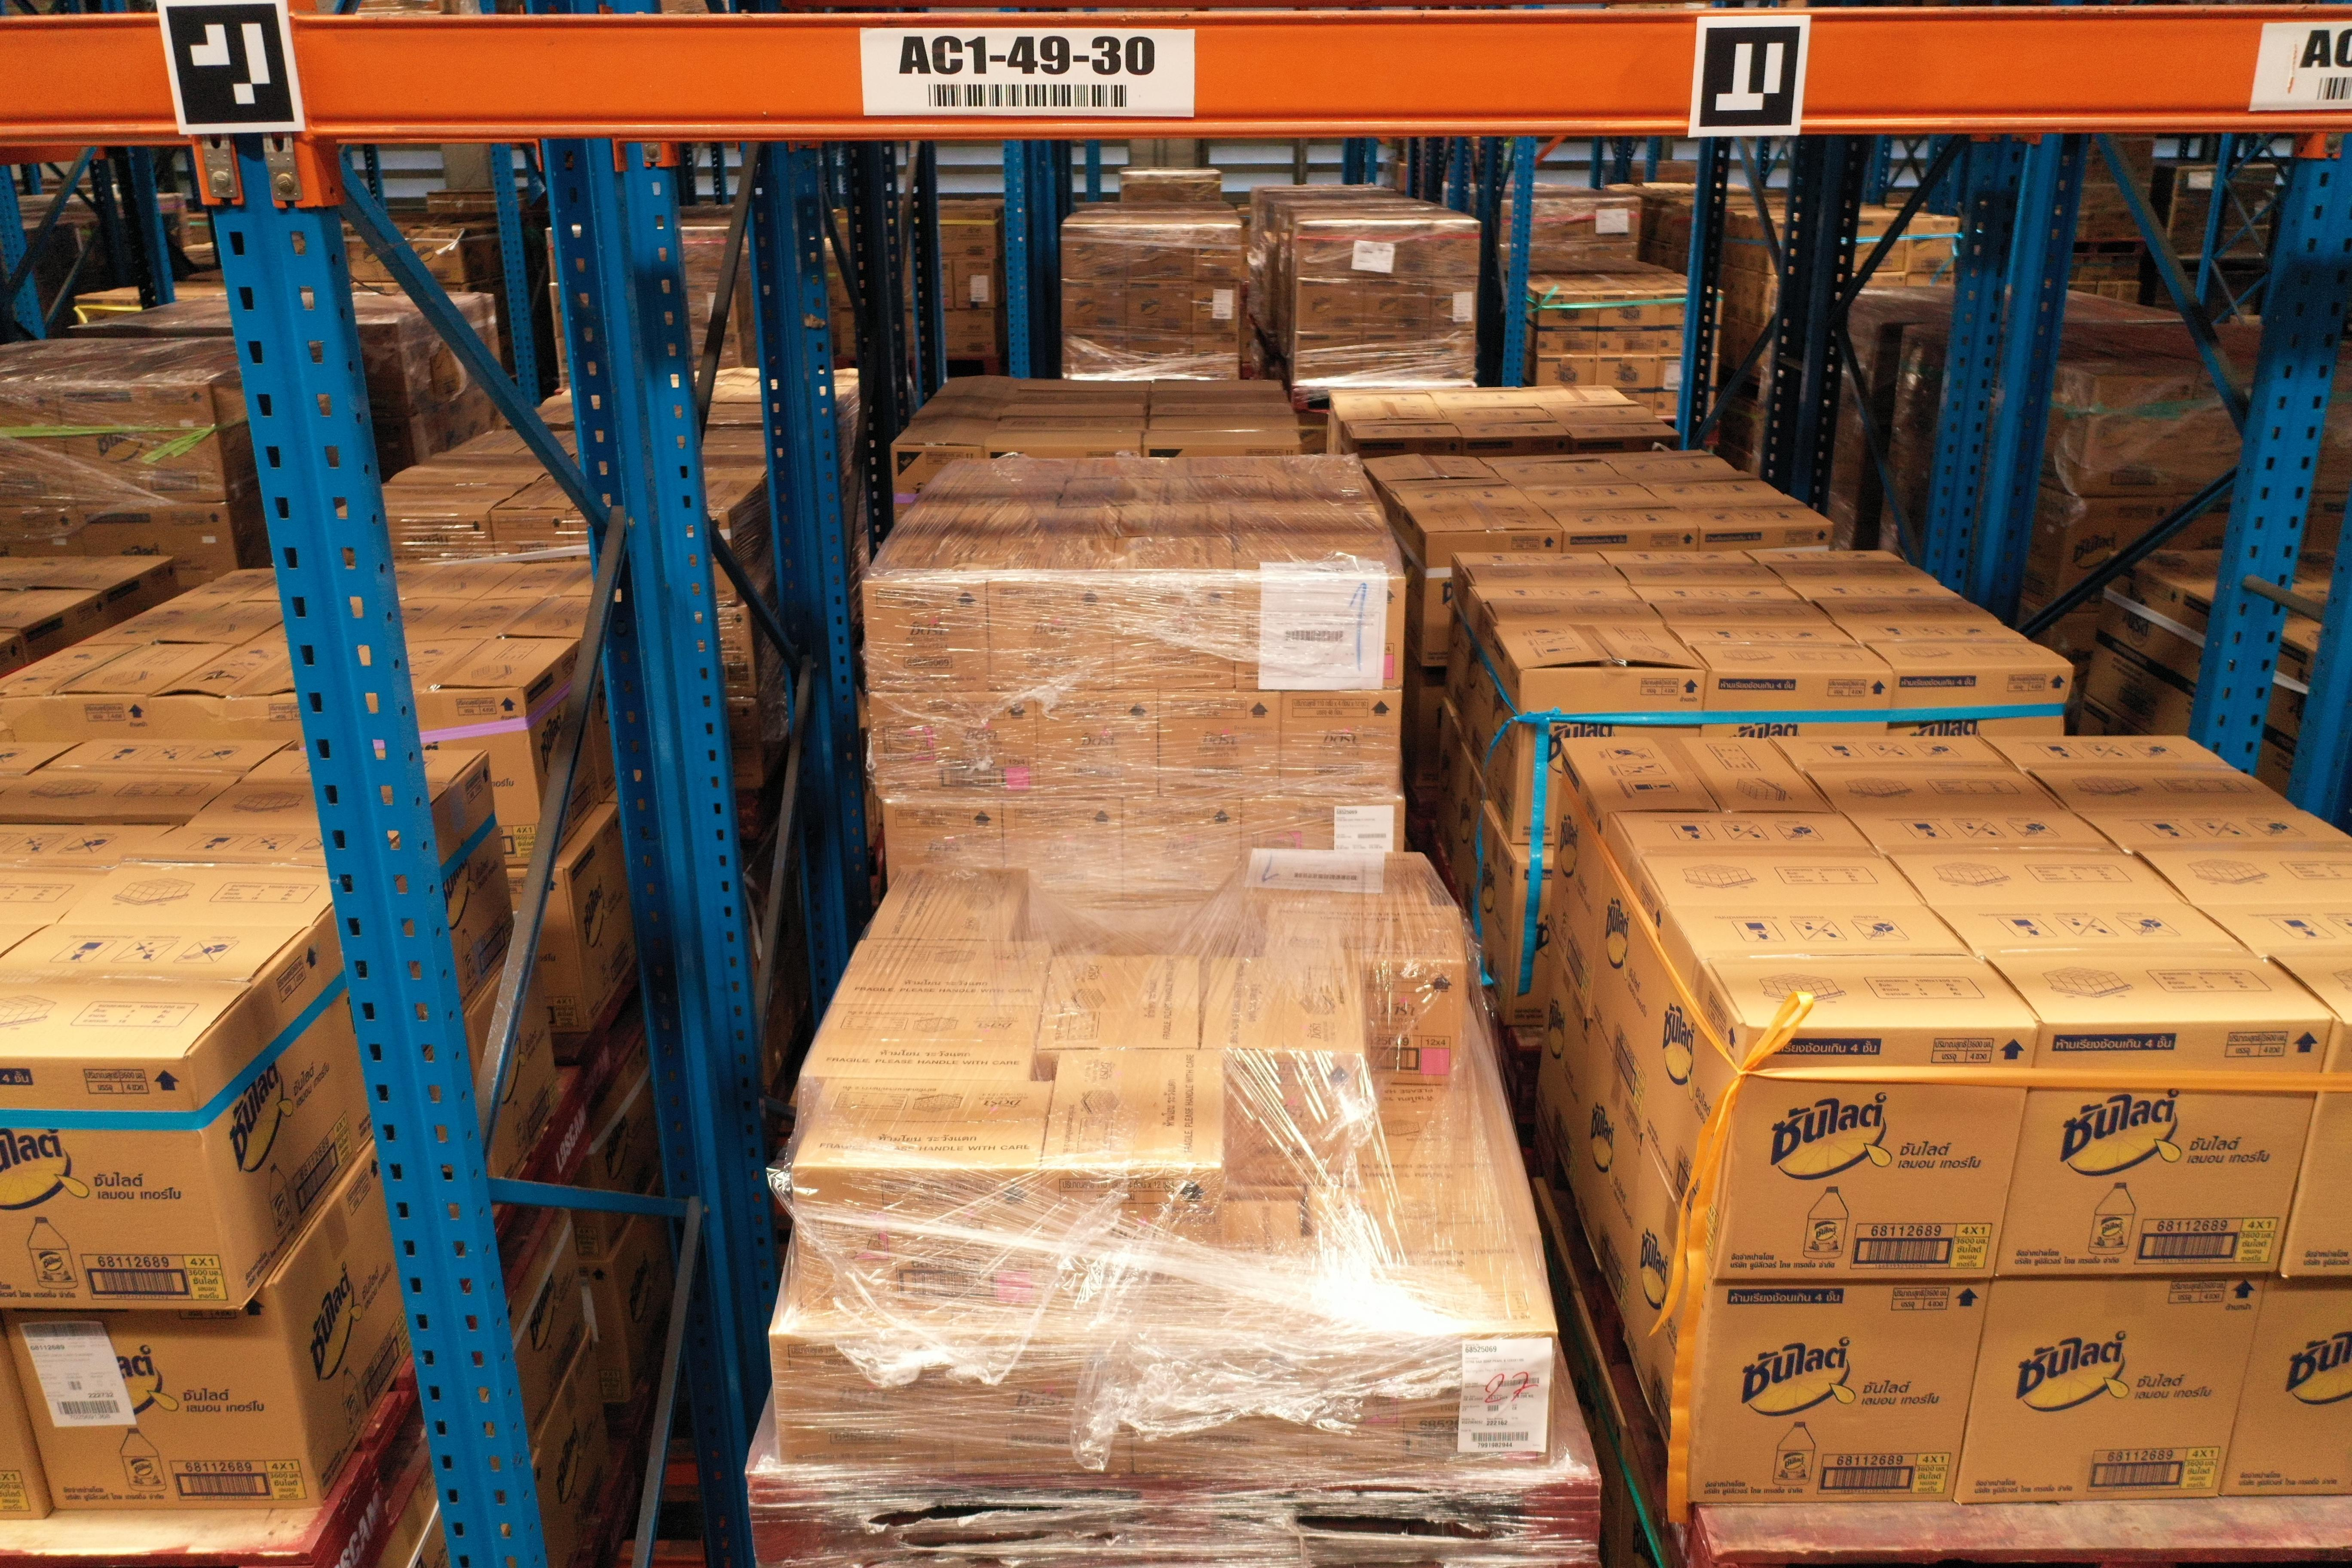-: (1995, 1018, 2333, 1279), (1715, 1024, 2039, 1284), (1685, 1281, 1993, 1514), (1955, 1274, 2264, 1505), (0, 1057, 243, 1316), (789, 1167, 1046, 1321), (1305, 1333, 1556, 1482), (2219, 1272, 2352, 1496), (1039, 1169, 1225, 1321), (773, 1330, 961, 1480), (1130, 1340, 1309, 1484), (961, 1339, 1134, 1482), (1223, 1046, 1367, 1190), (1363, 961, 1465, 1087)
2: (54, 383, 224, 506), (0, 385, 73, 511)
box: (1235, 576, 1407, 695), (871, 693, 1041, 807), (861, 576, 990, 696), (985, 579, 1115, 696), (1039, 684, 1162, 803), (1113, 579, 1235, 695), (1160, 686, 1284, 800), (1279, 693, 1396, 801), (1003, 801, 1127, 903), (1125, 801, 1241, 898), (1242, 801, 1405, 859), (884, 800, 1010, 873)
